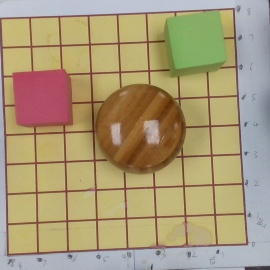chess: (94, 83, 187, 174)
